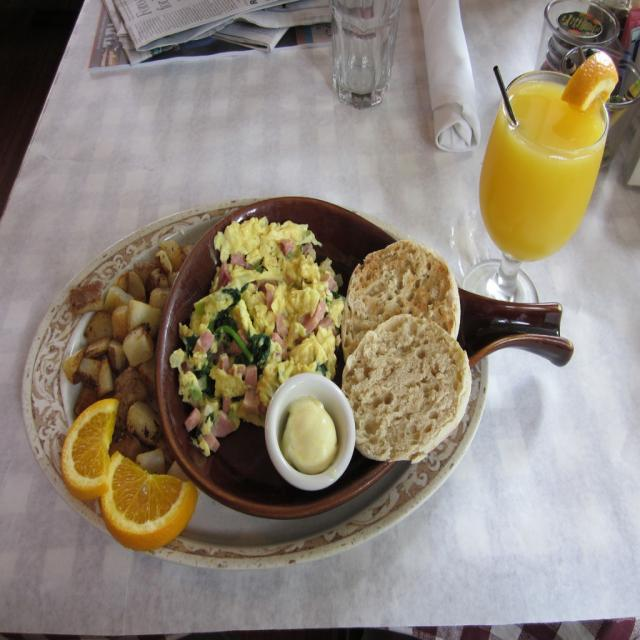Lemon: (98, 456, 196, 552), (61, 396, 115, 500), (557, 45, 617, 105)
